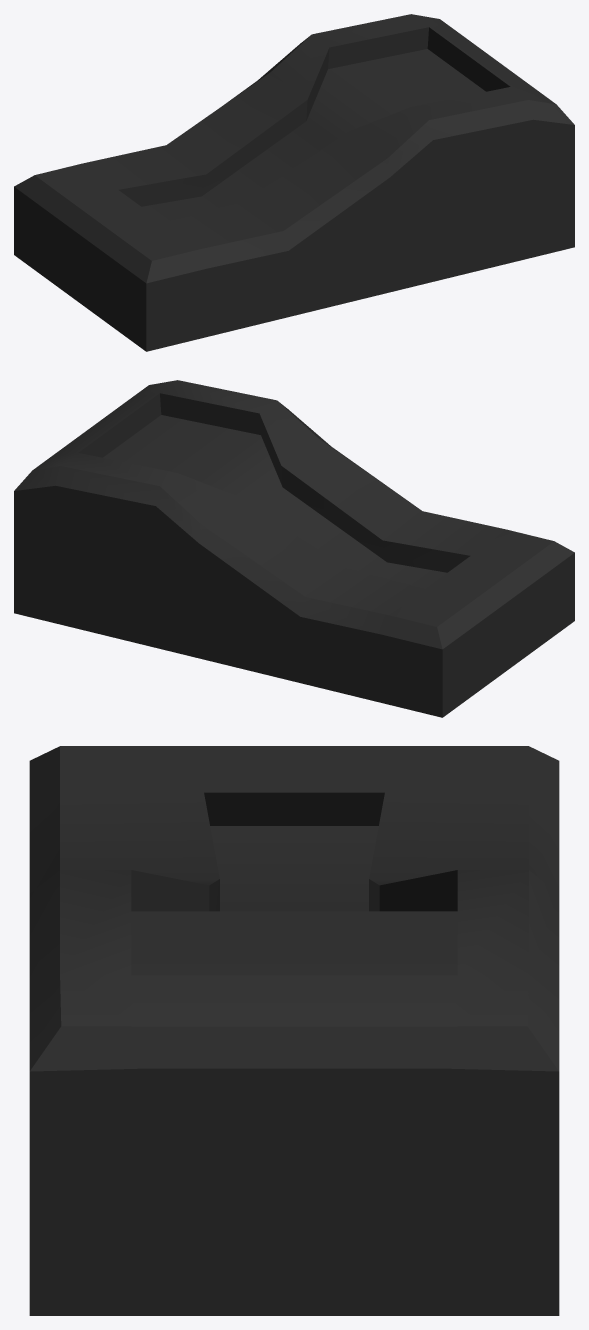
The model's file is ScannerHolder.fbx.
3 renders of one model, top to bottom at view 1: azimuth 30°, elevation 25°; view 2: azimuth 150°, elevation 25°; view 3: azimuth 270°, elevation 25°, orthographic. The views are drawn at different scales.
Parts seen in each view (by area): view 1: ScannerHolder; view 2: ScannerHolder; view 3: ScannerHolder.
Boxes of the visible parts, x1,y1,x2,y2 form: ScannerHolder: [14, 14, 574, 351]; ScannerHolder: [14, 380, 574, 717]; ScannerHolder: [29, 746, 559, 1315].
Size of the model in its own units: 33.62 by 11.65 by 17.99.
